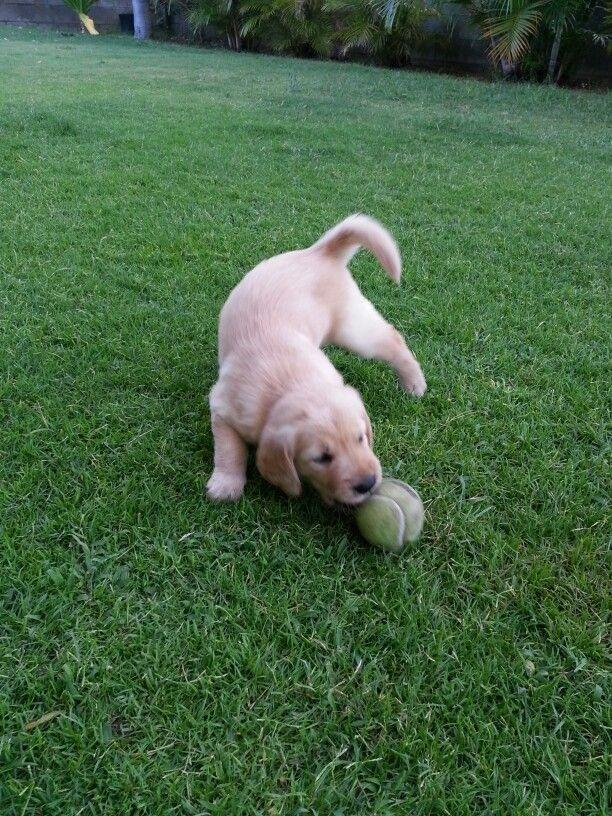puppy-dog: (207, 209, 428, 512)
